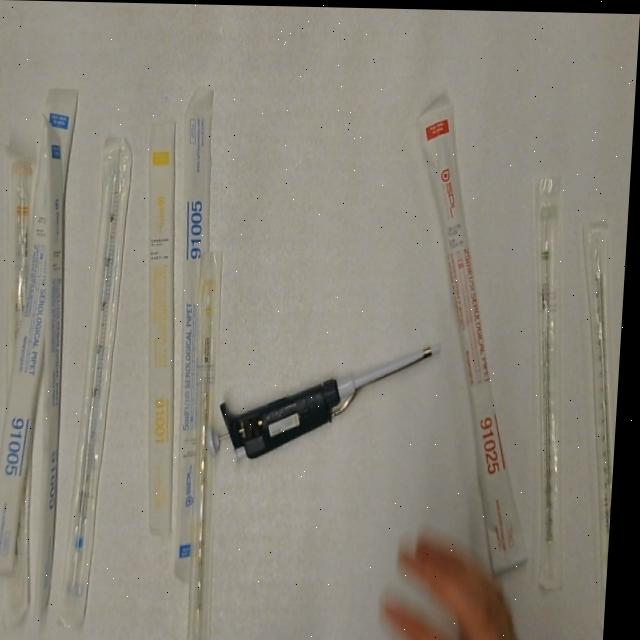Serelogical Pipet 1 mL: (129, 116, 197, 540), (184, 244, 239, 640)
Serelogical Pipet 10 mL: (0, 146, 39, 397)
Serelogical Pipet 2 mL: (517, 173, 592, 595)
Serelogical Pipet 25 mL: (397, 95, 560, 583)
Serelogical Pipet 5 mL: (0, 78, 85, 584), (163, 76, 242, 587), (62, 134, 141, 632), (20, 113, 85, 632)
Single Channel Pipettor: (208, 330, 449, 466)
